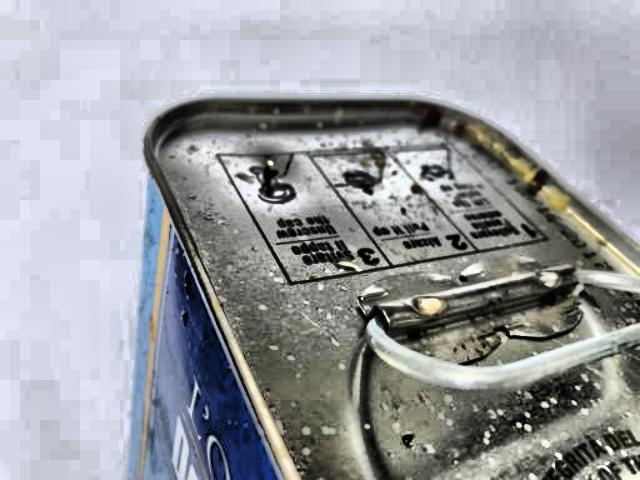Almennt: (94, 80, 640, 480)
